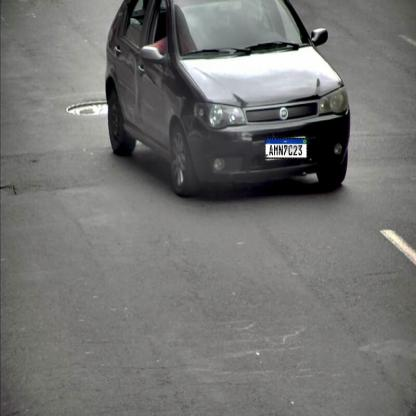PlacaM: (265, 138, 307, 159)
